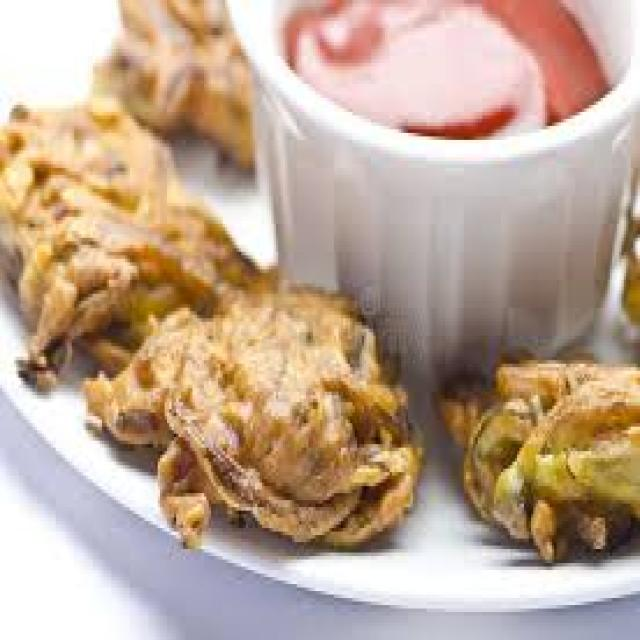BAJI: (77, 276, 431, 553), (0, 110, 258, 386), (445, 354, 638, 566), (88, 0, 254, 167)
